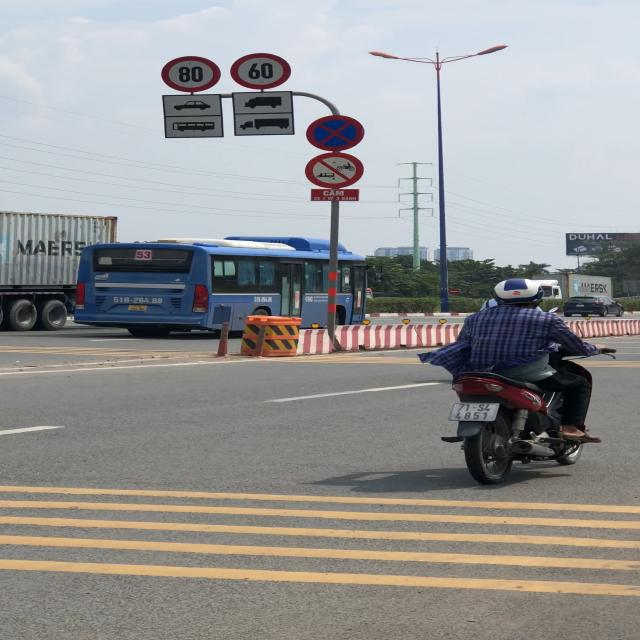Bien bao cam dung xe va do xe: (305, 114, 368, 151)
Bien bao toc do toi da cho phep: (231, 52, 296, 91), (160, 54, 220, 93)
